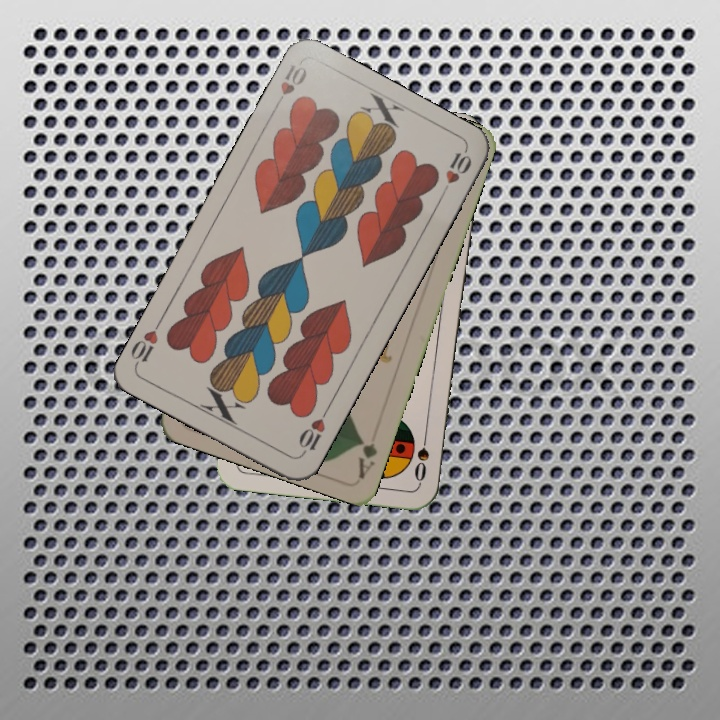GA: (353, 435, 380, 480)
H10: (269, 59, 310, 113), (294, 404, 332, 458)
SO: (410, 426, 432, 485)
